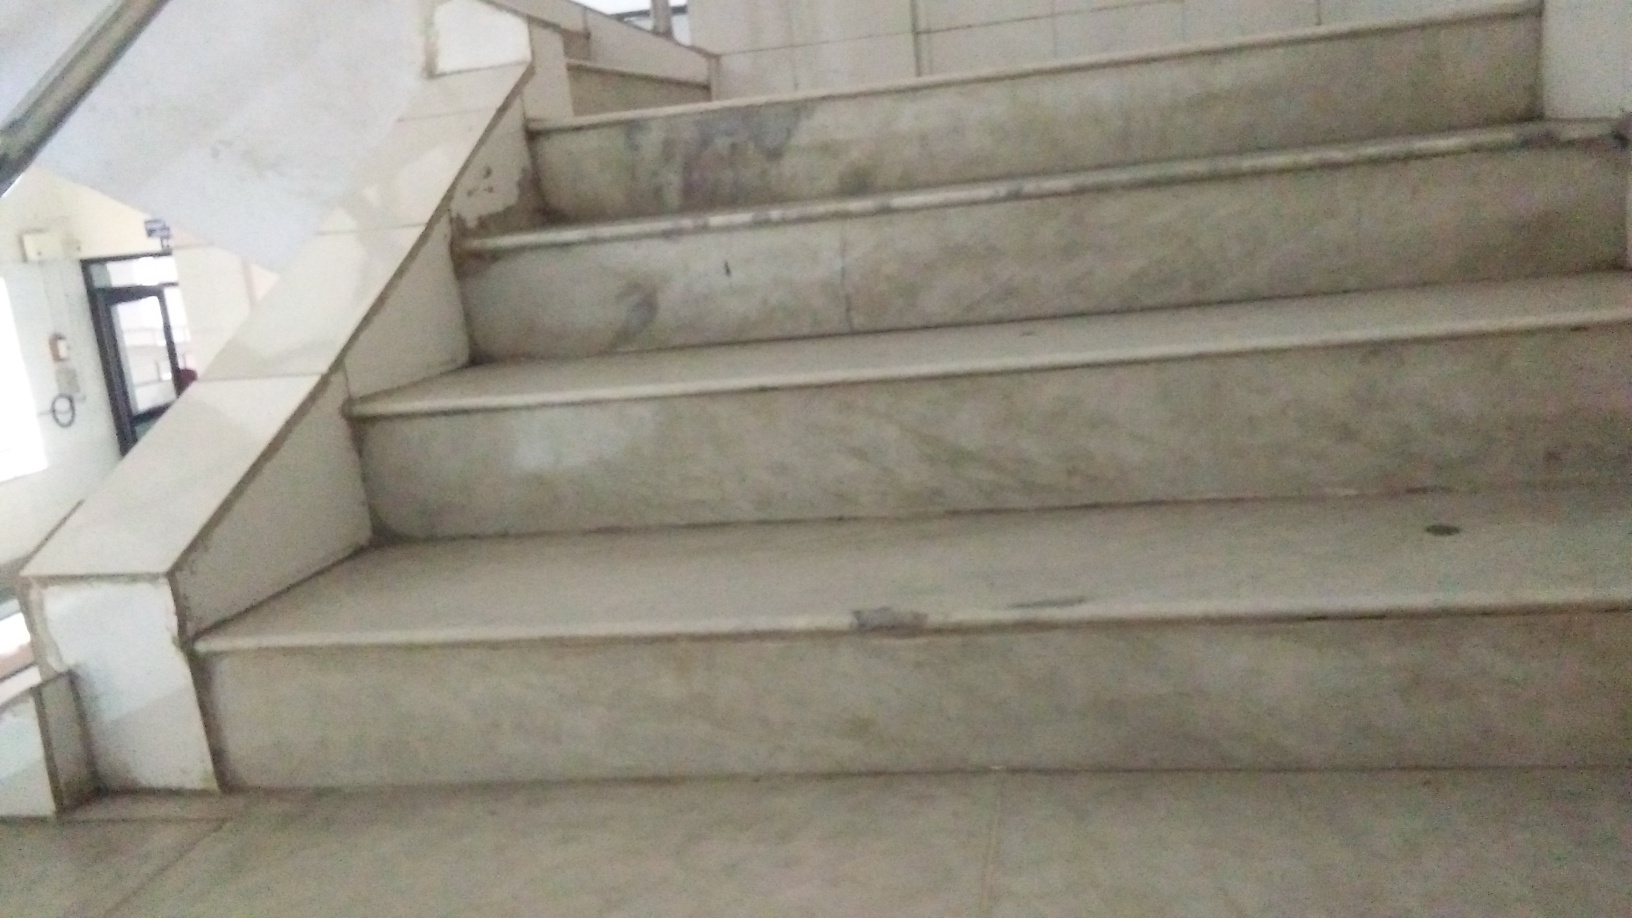stairs_up: (169, 62, 1632, 780)
